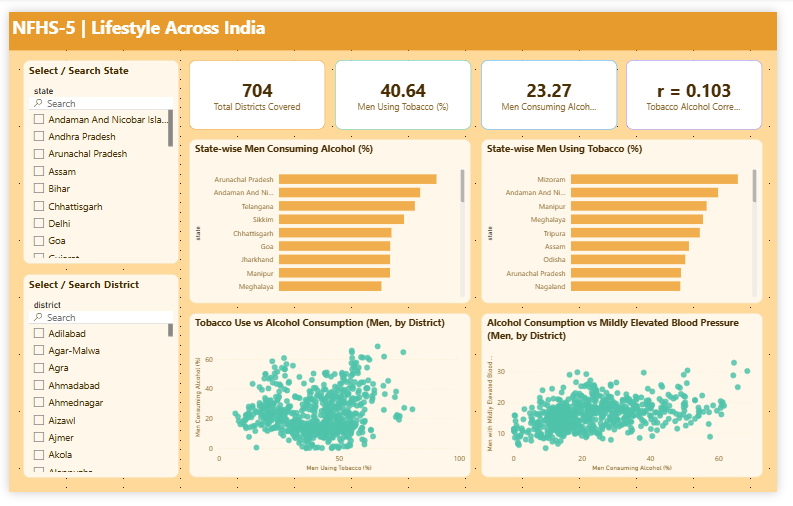

Layout of this report page (visuals, bound fields, positions):
{"tool":"powerbi","page":{"name":"Lifestyle","canvas":[1280,800],"ordinal":1},"visuals":[{"type":"textbox","box":[0,0,1280,64],"z":0},{"type":"slicer","title":"Select / Search State","fields":{"Values":["FINAL_nfhs5_cleaned.state"]},"box":[24,80,260,340],"z":1000},{"type":"slicer","title":"Select / Search District","fields":{"Values":["FINAL_nfhs5_cleaned.district"]},"box":[24,436,260,340],"z":2000},{"type":"cardVisual","fields":{"Data":["CountNonNull(FINAL_nfhs5_cleaned.district)"]},"box":[300,80,227,116],"z":3000},{"type":"cardVisual","fields":{"Data":["Avg(FINAL_nfhs5_cleaned.men_age_group_15_years_and_above_who_use_any_kind_of_tobacco)"]},"box":[543,80,227,116],"z":4000},{"type":"cardVisual","fields":{"Data":["Avg(FINAL_nfhs5_cleaned.men_age_group_15_years_and_above_who_consume_alcohol)"]},"box":[786,80,227,116],"z":5000},{"type":"cardVisual","fields":{"Data":["FINAL_nfhs5_cleaned.Tobacco Alcohol Correlation Label"]},"box":[1029,80,227,116],"z":6000},{"type":"clusteredBarChart","title":"State-wise Men Consuming Alcohol (%)","fields":{"Y":["Avg(FINAL_nfhs5_cleaned.men_age_group_15_years_and_above_who_consume_alcohol)"],"Category":["FINAL_nfhs5_cleaned.state"]},"box":[300,212,470,274],"z":7000},{"type":"clusteredBarChart","title":"State-wise Men Using Tobacco (%)","fields":{"Category":["FINAL_nfhs5_cleaned.state"],"Y":["Avg(FINAL_nfhs5_cleaned.men_age_group_15_years_and_above_who_use_any_kind_of_tobacco)"]},"box":[786,212,470,274],"z":8000},{"type":"scatterChart","title":"Tobacco Use vs Alcohol Consumption (Men, by District)","fields":{"X":["Avg(FINAL_nfhs5_cleaned.men_age_group_15_years_and_above_who_use_any_kind_of_tobacco)"],"Y":["Avg(FINAL_nfhs5_cleaned.men_age_group_15_years_and_above_who_consume_alcohol)"],"Category":["FINAL_nfhs5_cleaned.district"]},"box":[300,502,470,274],"z":9000},{"type":"scatterChart","title":"Alcohol Consumption vs Mildly Elevated Blood Pressure (Men, by District)","fields":{"Category":["FINAL_nfhs5_cleaned.district"],"X":["Avg(FINAL_nfhs5_cleaned.men_age_group_15_years_and_above_who_consume_alcohol)"],"Y":["Avg(FINAL_nfhs5_cleaned.men_mildly_elevated_blood_pressure)"]},"box":[786,502,470,274],"z":10000}]}

Visuals, with their boxes in screenshot pixels (x1, y1, x2, y2), scaled from the page's 1280x800 canvas onto the 793x506 screenshot:
textbox: [x1=0, y1=0, x2=792, y2=40]
"Select / Search State" slicer: [x1=15, y1=51, x2=176, y2=266]
"Select / Search District" slicer: [x1=15, y1=276, x2=176, y2=491]
cardVisual - CountNonNull(FINAL_nfhs5_cleaned.district): [x1=186, y1=51, x2=326, y2=124]
cardVisual - Avg(FINAL_nfhs5_cleaned.men_age_group_15_years_and_above_who_use_any_kind_of_tobacco): [x1=336, y1=51, x2=477, y2=124]
cardVisual - Avg(FINAL_nfhs5_cleaned.men_age_group_15_years_and_above_who_consume_alcohol): [x1=487, y1=51, x2=628, y2=124]
cardVisual - FINAL_nfhs5_cleaned.Tobacco Alcohol Correlation Label: [x1=637, y1=51, x2=778, y2=124]
"State-wise Men Consuming Alcohol (%)" clusteredBarChart: [x1=186, y1=134, x2=477, y2=307]
"State-wise Men Using Tobacco (%)" clusteredBarChart: [x1=487, y1=134, x2=778, y2=307]
"Tobacco Use vs Alcohol Consumption (Men, by District)" scatterChart: [x1=186, y1=318, x2=477, y2=491]
"Alcohol Consumption vs Mildly Elevated Blood Pressure (Men, by District)" scatterChart: [x1=487, y1=318, x2=778, y2=491]
